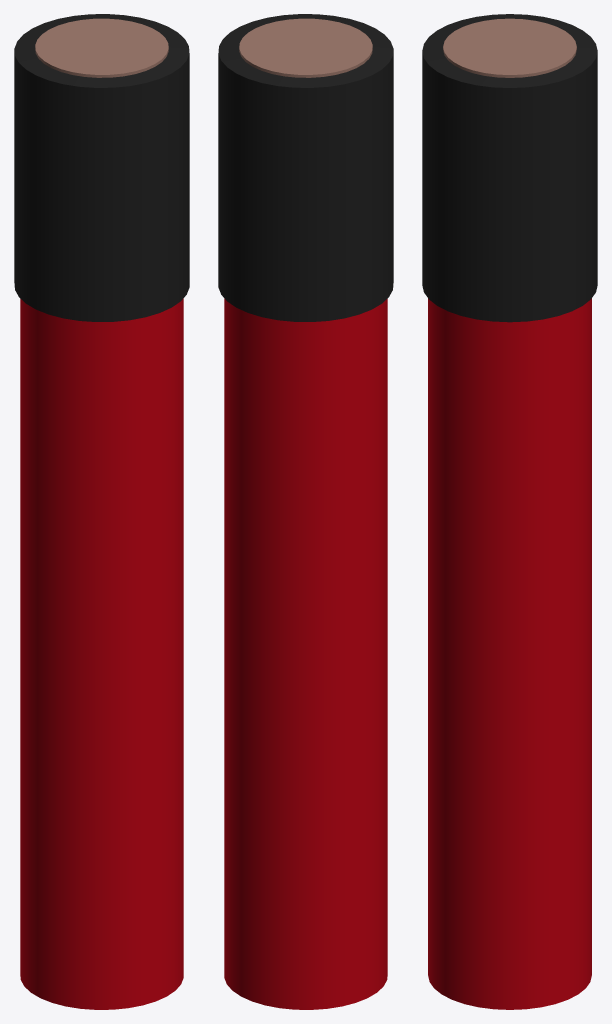
Rendered from 004Hatuentou.fbx.
The picture shows the model from 3 angles, left to right: view 1: azimuth 30°, elevation 25°; view 2: azimuth 150°, elevation 25°; view 3: azimuth 270°, elevation 25°; orthographic projection.
Visible parts, largest first — view 1: 円柱; view 2: 円柱; view 3: 円柱.
Boxes of the visible parts, x1,y1,x2,y2 form: 円柱: (14,14,189,1009); 円柱: (218,14,393,1009); 円柱: (422,14,597,1009).
Bounding box in the file's own units: 214 × 1250 × 214.
